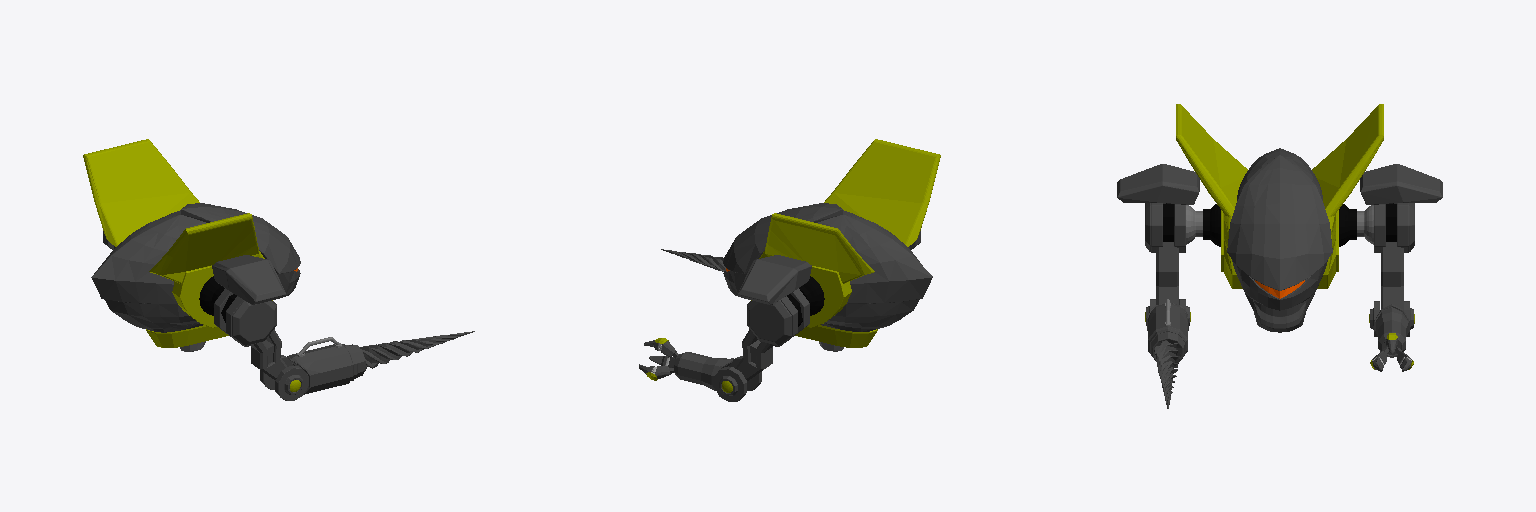
Rendered from Enemy.obj.
3 views of the same model, side by side, from view 1: azimuth 30°, elevation 25°; view 2: azimuth 150°, elevation 25°; view 3: azimuth 270°, elevation 25° (orthographic).
Visible parts, largest first — view 1: Enemy Model_And_Rig pasted__pCylinder25 Full_Body, Enemy Model_And_Rig Full_Body pasted__pSphere11, Enemy Model_And_Rig Full_Body pasted__pSphere14, Enemy Model_And_Rig Drill_Arm pCube20, Enemy Model_And_Rig Drill_Arm pCylinder16, Enemy Model_And_Rig Full_Body pasted__pSphere13, Enemy Model_And_Rig Drill_Arm pCube21, Enemy Model_And_Rig Drill_Arm pasted__pCylinder8, Enemy Model_And_Rig Full_Body pasted__pCylinder23, Enemy Model_And_Rig Drill_Arm pasted__pCube18, Enemy Model_And_Rig Drill_Arm pCylinder17, Enemy Model_And_Rig Full_Body pasted__pSphere7; view 2: Enemy Model_And_Rig pasted__pCylinder25 Full_Body, Enemy Model_And_Rig Full_Body pasted__pSphere11, Enemy Model_And_Rig Full_Body pasted__pSphere14, Grab_Arm Enemy Model_And_Rig pCube16, Enemy Model_And_Rig Full_Body pasted__pSphere13, Grab_Arm Enemy Model_And_Rig pCube17, Grab_Arm Enemy Model_And_Rig pasted__pasted__polySurface4, Enemy Model_And_Rig Full_Body pasted__pCylinder23, Grab_Arm Enemy Model_And_Rig pCube18, Grab_Arm Enemy Model_And_Rig pCylinder12, Enemy Model_And_Rig Full_Body pasted__pSphere15; view 3: Enemy Model_And_Rig Full_Body pasted__pSphere13, Enemy Model_And_Rig pasted__pCylinder25 Full_Body, Grab_Arm Enemy Model_And_Rig pCube16, Enemy Model_And_Rig Drill_Arm pCube20, Enemy Model_And_Rig Full_Body pasted__pSphere11, Enemy Model_And_Rig Drill_Arm pCylinder16, Grab_Arm Enemy Model_And_Rig pCube18, Enemy Model_And_Rig Drill_Arm pasted__pCube18, Enemy Model_And_Rig Full_Body pasted__pPlane3, Grab_Arm Enemy Model_And_Rig pasted__pasted__polySurface4, Enemy Model_And_Rig Drill_Arm pasted__pCylinder8, Grab_Arm Enemy Model_And_Rig pCube17 (+7 smaller).
Part boxes in pixels (bbox=[...]): Enemy Model_And_Rig pasted__pCylinder25 Full_Body: bbox=[83, 139, 272, 327]; Enemy Model_And_Rig Full_Body pasted__pSphere11: bbox=[91, 210, 300, 296]; Enemy Model_And_Rig Full_Body pasted__pSphere14: bbox=[92, 278, 202, 332]; Enemy Model_And_Rig Drill_Arm pCube20: bbox=[212, 255, 285, 304]; Enemy Model_And_Rig Drill_Arm pCylinder16: bbox=[287, 344, 365, 394]; Enemy Model_And_Rig Full_Body pasted__pSphere13: bbox=[181, 203, 300, 273]; Enemy Model_And_Rig Drill_Arm pCube21: bbox=[226, 296, 276, 345]; Enemy Model_And_Rig Drill_Arm pasted__pCylinder8: bbox=[360, 331, 474, 368]; Enemy Model_And_Rig Full_Body pasted__pCylinder23: bbox=[146, 325, 228, 347]; Enemy Model_And_Rig Drill_Arm pasted__pCube18: bbox=[250, 329, 286, 379]; Enemy Model_And_Rig Drill_Arm pCylinder17: bbox=[260, 355, 308, 400]; Enemy Model_And_Rig Full_Body pasted__pSphere7: bbox=[199, 276, 224, 315]; Enemy Model_And_Rig pasted__pCylinder25 Full_Body: bbox=[751, 139, 940, 327]; Enemy Model_And_Rig Full_Body pasted__pSphere11: bbox=[723, 210, 932, 296]; Enemy Model_And_Rig Full_Body pasted__pSphere14: bbox=[821, 277, 932, 331]; Grab_Arm Enemy Model_And_Rig pCube16: bbox=[738, 255, 811, 304]; Enemy Model_And_Rig Full_Body pasted__pSphere13: bbox=[723, 203, 842, 273]; Grab_Arm Enemy Model_And_Rig pCube17: bbox=[747, 296, 797, 345]; Grab_Arm Enemy Model_And_Rig pasted__pasted__polySurface4: bbox=[674, 352, 733, 390]; Enemy Model_And_Rig Full_Body pasted__pCylinder23: bbox=[795, 325, 877, 347]; Grab_Arm Enemy Model_And_Rig pCube18: bbox=[735, 329, 773, 380]; Grab_Arm Enemy Model_And_Rig pCylinder12: bbox=[714, 356, 761, 401]; Enemy Model_And_Rig Full_Body pasted__pSphere15: bbox=[799, 276, 824, 315]; Enemy Model_And_Rig Full_Body pasted__pSphere13: bbox=[1227, 155, 1332, 290]; Enemy Model_And_Rig pasted__pCylinder25 Full_Body: bbox=[1176, 104, 1383, 288]; Grab_Arm Enemy Model_And_Rig pCube16: bbox=[1360, 164, 1442, 204]; Enemy Model_And_Rig Drill_Arm pCube20: bbox=[1117, 164, 1199, 204]; Enemy Model_And_Rig Full_Body pasted__pSphere11: bbox=[1232, 148, 1327, 310]; Enemy Model_And_Rig Drill_Arm pCylinder16: bbox=[1147, 302, 1188, 363]; Grab_Arm Enemy Model_And_Rig pCube18: bbox=[1381, 242, 1403, 309]; Enemy Model_And_Rig Drill_Arm pasted__pCube18: bbox=[1156, 242, 1178, 304]; Enemy Model_And_Rig Full_Body pasted__pPlane3: bbox=[1244, 291, 1315, 332]; Grab_Arm Enemy Model_And_Rig pasted__pasted__polySurface4: bbox=[1374, 304, 1409, 357]; Enemy Model_And_Rig Drill_Arm pasted__pCylinder8: bbox=[1154, 340, 1181, 408]; Grab_Arm Enemy Model_And_Rig pCube17: bbox=[1397, 203, 1414, 252].
Bounding box in the file's own units: 14.03 × 7.59 × 12.